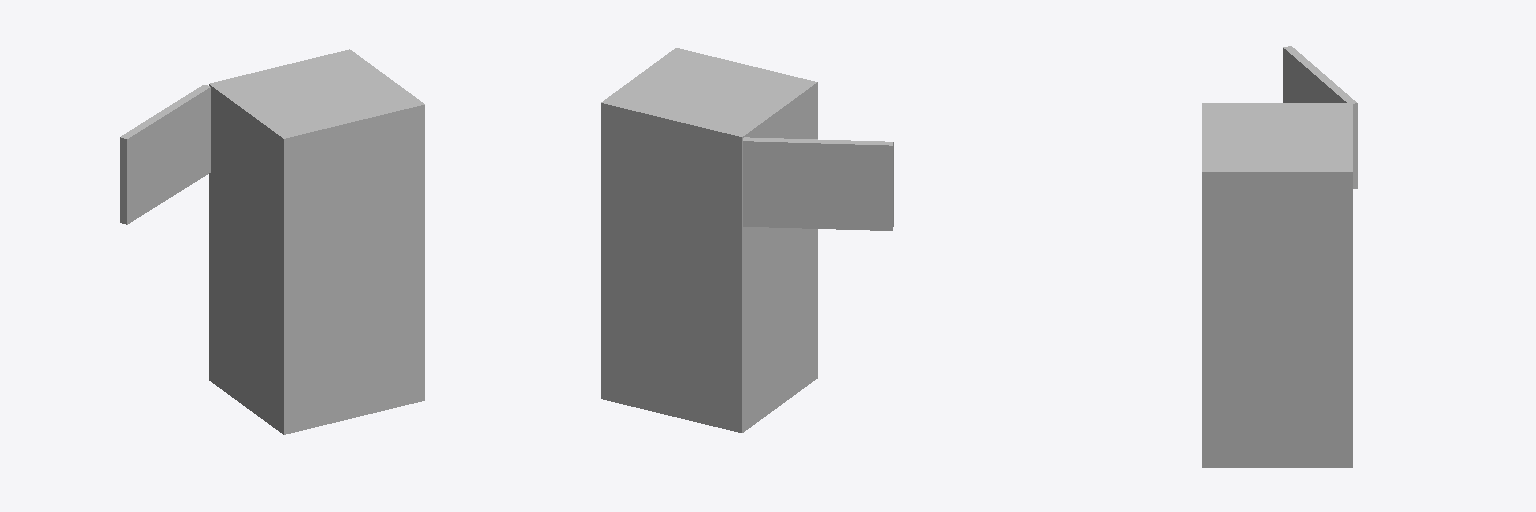
Rendered from Refri_Uv.obj.
3 views of the same model, side by side, from view 1: azimuth 30°, elevation 25°; view 2: azimuth 150°, elevation 25°; view 3: azimuth 270°, elevation 25° (orthographic).
Parts seen in each view (by area): view 1: Refri.001, Cube; view 2: Refri.001, Cube; view 3: Refri.001, Cube.
Boxes of the visible parts, x1,y1,x2,y2 form: Refri.001: [209, 49, 424, 434]; Cube: [120, 85, 210, 224]; Refri.001: [601, 48, 817, 432]; Cube: [743, 137, 893, 230]; Refri.001: [1202, 103, 1352, 467]; Cube: [1283, 46, 1357, 188].
Bounding box in the file's own units: 3.32 × 3.6 × 1.71.